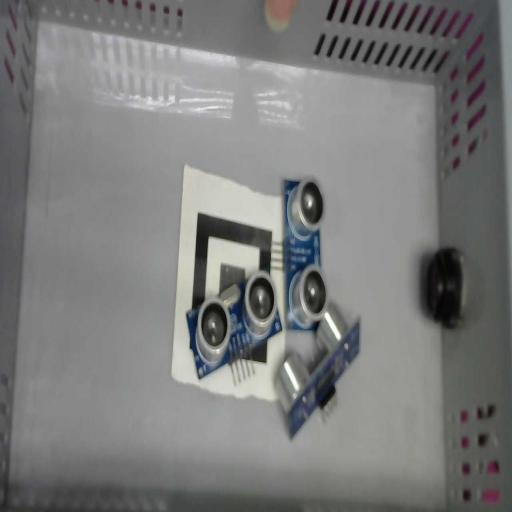QR: (170, 166, 286, 401)
ultrasonic_hc-sr04: (272, 300, 362, 442), (185, 270, 283, 380), (283, 176, 330, 330)
